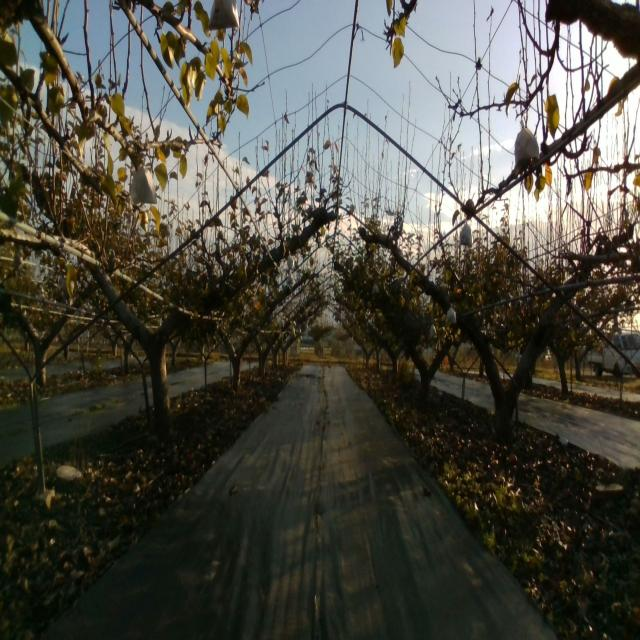pearbags: (130, 161, 158, 206), (514, 118, 540, 164), (207, 0, 241, 29), (459, 220, 474, 249), (444, 302, 457, 326)
